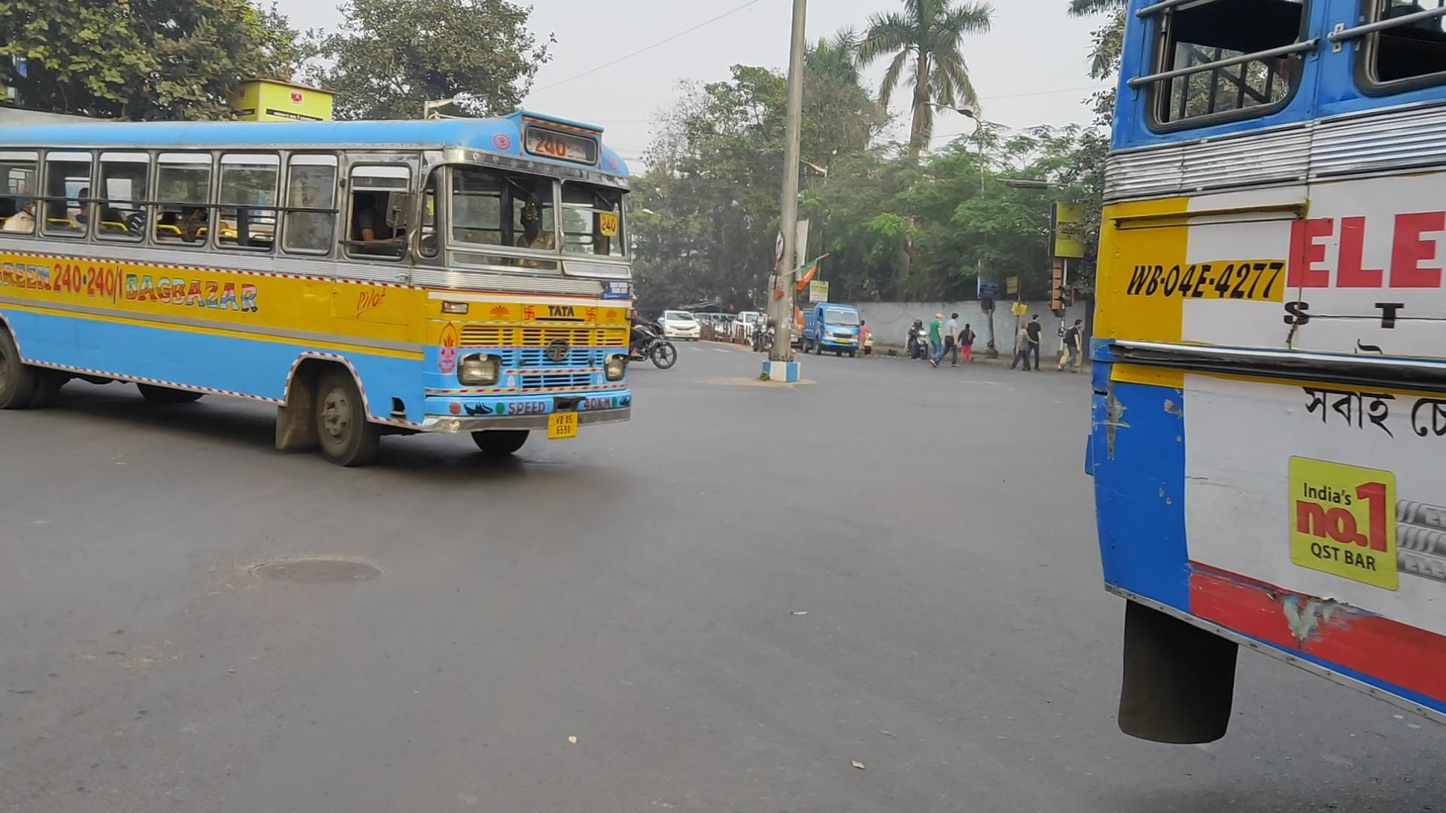Bus: (1, 111, 632, 468)
bike: (630, 295, 677, 370), (749, 307, 770, 354), (907, 319, 930, 361)
car: (657, 309, 700, 344)
van: (800, 303, 861, 357)
